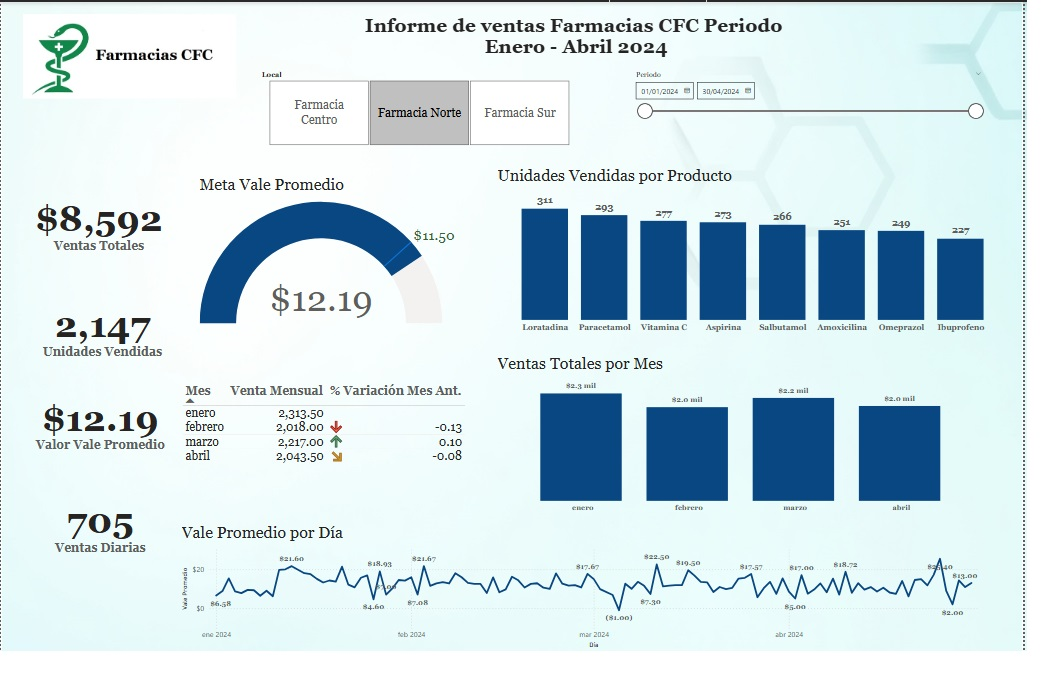

The page's visual inventory and layout, read from the dashboard file:
{"tool":"powerbi","page":{"name":"Página 1","canvas":[1700,1100],"ordinal":0},"visuals":[{"type":"card","fields":{"Values":["ventas.Total_Ventas"]},"box":[0,284.6,324.9,163.4],"z":0},{"type":"card","fields":{"Values":["ventas.Unidades_Totales"]},"box":[18.4,454.1,299.9,177.5],"z":1000},{"type":"clusteredColumnChart","title":"Unidades Vendidas por Producto","fields":{"Category":["ventas.Producto"],"Y":["Sum(ventas.Cantidad)"]},"box":[820.1,273.4,858.9,283.6],"z":2000},{"type":"slicer","fields":{"Values":["ventas.Local"]},"box":[420.3,108.1,548.8,136.7],"z":3000},{"type":"slicer","fields":{"Values":["ventas.Fecha_Venta"]},"box":[1042.5,108.1,599.8,136.7],"z":4000},{"type":"clusteredColumnChart","fields":{"Y":["ventas.Total_Ventas"],"Category":["Calendario.Date.Variación.Jerarquía de fechas.Mes"]},"box":[820.1,585.5,822.2,271.3],"z":5000},{"type":"lineChart","fields":{"Y":["ventas.Vale_Promedio"],"Category":["Calendario.Date"]},"box":[295.8,867.1,1346.5,212.2],"z":6000},{"type":"card","fields":{"Values":["ventas.Vale_Promedio"]},"box":[40.8,618.2,248.9,159.1],"z":7000},{"type":"card","fields":{"Values":["ventas.Ventas_por_dia"]},"box":[40.8,787.5,248.9,161.2],"z":8000},{"type":"tableEx","fields":{"Values":["Calendario.Date.Variación.Jerarquía de fechas.Mes","Sum(ventas.Total_Venta)","ventas.% Variación Ventas Mes Anterior"]},"box":[295.8,630.4,524.3,226.5],"z":9000},{"type":"gauge","title":"Meta Vale Promedio","fields":{"Y":["ventas.Vale_Promedio"],"MinValue":["Calendario.Vale_prom_minimo"],"MaxValue":["Calendario.Vale_prom_max"],"TargetValue":["Calendario.vale_destino_prom"]},"box":[324.4,287.7,440.7,259.1],"z":10000},{"type":"textbox","box":[544.7,14.3,822.2,93.8],"z":11000},{"type":"image","box":[18.4,14.3,391.7,151],"z":12000}]}

Visuals, with their boxes in screenshot pixels (x1, y1, x2, y2), scaled from the page's 1700x1100 canvas onto the 1044x674 screenshot:
card - ventas.Total_Ventas: region(0, 174, 200, 275)
card - ventas.Unidades_Totales: region(11, 278, 195, 387)
"Unidades Vendidas por Producto" clusteredColumnChart: region(504, 168, 1031, 341)
slicer - ventas.Local: region(258, 66, 595, 150)
slicer - ventas.Fecha_Venta: region(640, 66, 1009, 150)
clusteredColumnChart - ventas.Total_Ventas x Calendario.Date.Variación.Jerarquía de fechas.Mes: region(504, 359, 1009, 525)
lineChart - ventas.Vale_Promedio x Calendario.Date: region(182, 531, 1009, 661)
card - ventas.Vale_Promedio: region(25, 379, 178, 476)
card - ventas.Ventas_por_dia: region(25, 483, 178, 581)
tableEx - Calendario.Date.Variación.Jerarquía de fechas.Mes x Sum(ventas.Total_Venta): region(182, 386, 504, 525)
"Meta Vale Promedio" gauge: region(199, 176, 470, 335)
textbox: region(335, 9, 839, 66)
image: region(11, 9, 252, 101)
